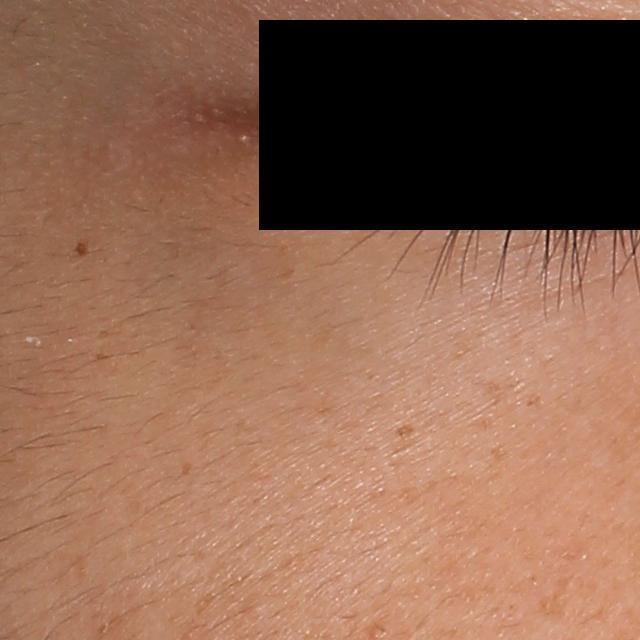melasma: (392, 423, 417, 440)
nevus: (72, 238, 88, 258)
